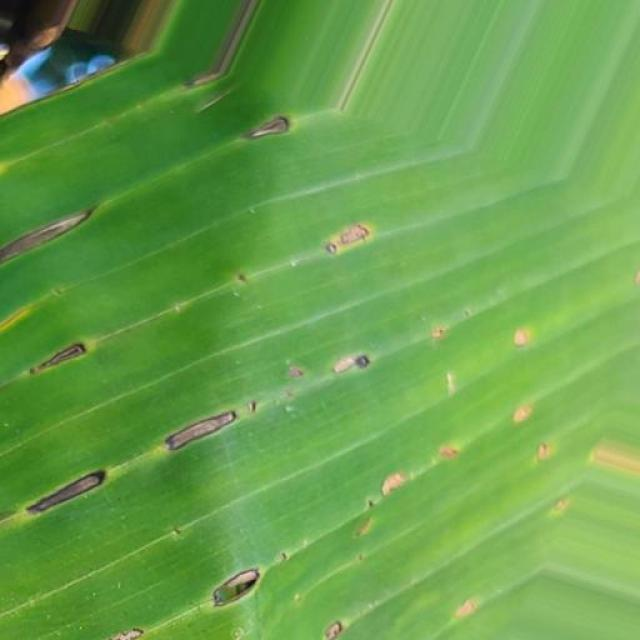Black_rot: (11, 41, 636, 626)
